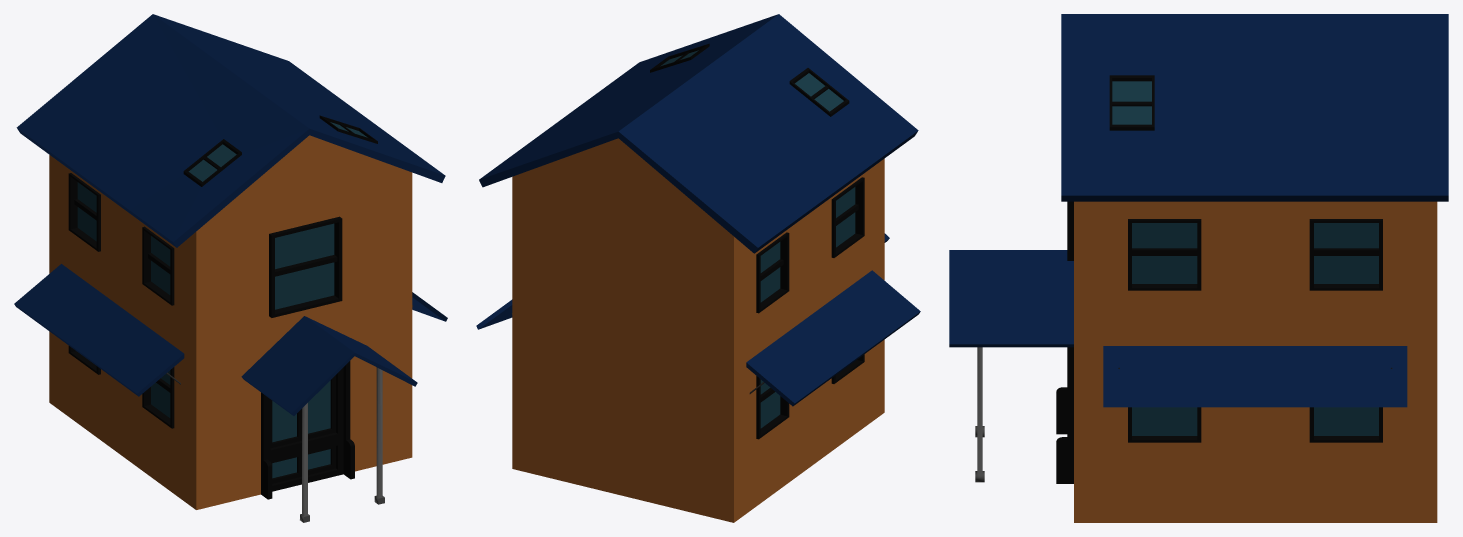
Rendered from House_4.fbx.
3 views of the same model, side by side, from view 1: azimuth 30°, elevation 25°; view 2: azimuth 150°, elevation 25°; view 3: azimuth 270°, elevation 25° (orthographic). The views are drawn at different scales.
Visible parts, largest first — view 1: Cylinder.037; view 2: Cylinder.037; view 3: Cylinder.037.
Boxes of the visible parts, left/top/right/bottom form: Cylinder.037: left=14, top=14, right=447, bottom=522; Cylinder.037: left=476, top=14, right=920, bottom=522; Cylinder.037: left=949, top=14, right=1448, bottom=522.
Bounding box in the file's own units: 473 × 521 × 531.
